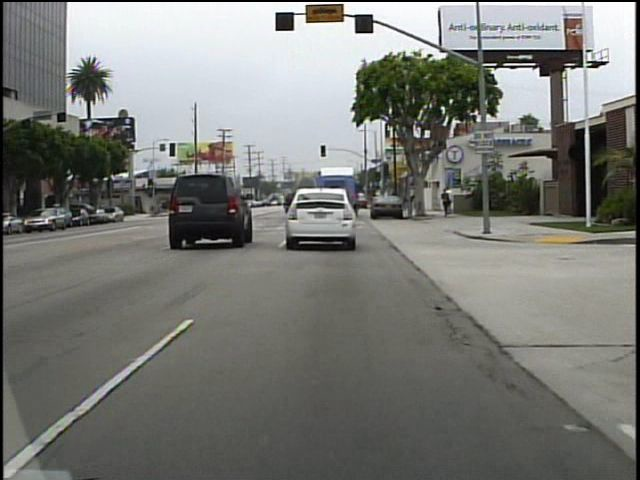person: (439, 186, 452, 219), (447, 185, 457, 215)
